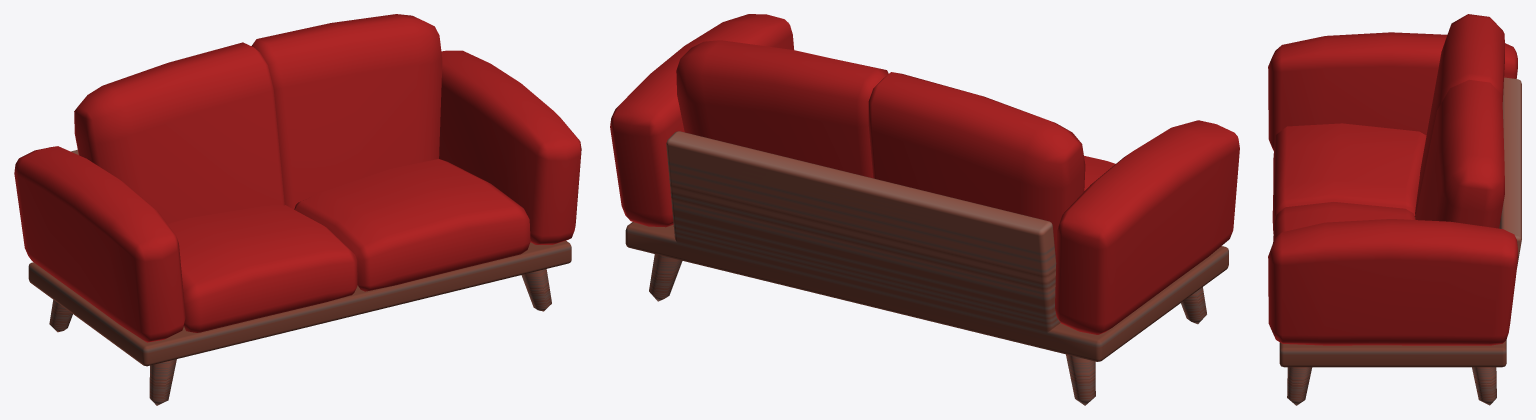
Rendered from couch-05.glb.
3 views of the same model, side by side, from view 1: azimuth 30°, elevation 25°; view 2: azimuth 150°, elevation 25°; view 3: azimuth 270°, elevation 25° (orthographic). The views are drawn at different scales.
Visible parts, largest first — view 1: Couch_05; view 2: Couch_05; view 3: Couch_05.
Part boxes in pixels (x1,y1,x2,y2): Couch_05: (14, 14, 581, 405); Couch_05: (610, 14, 1239, 405); Couch_05: (1268, 14, 1521, 405).
Bounding box in the file's own units: 1.72 × 0.892 × 0.8595.
2 materials, 1 textured.
